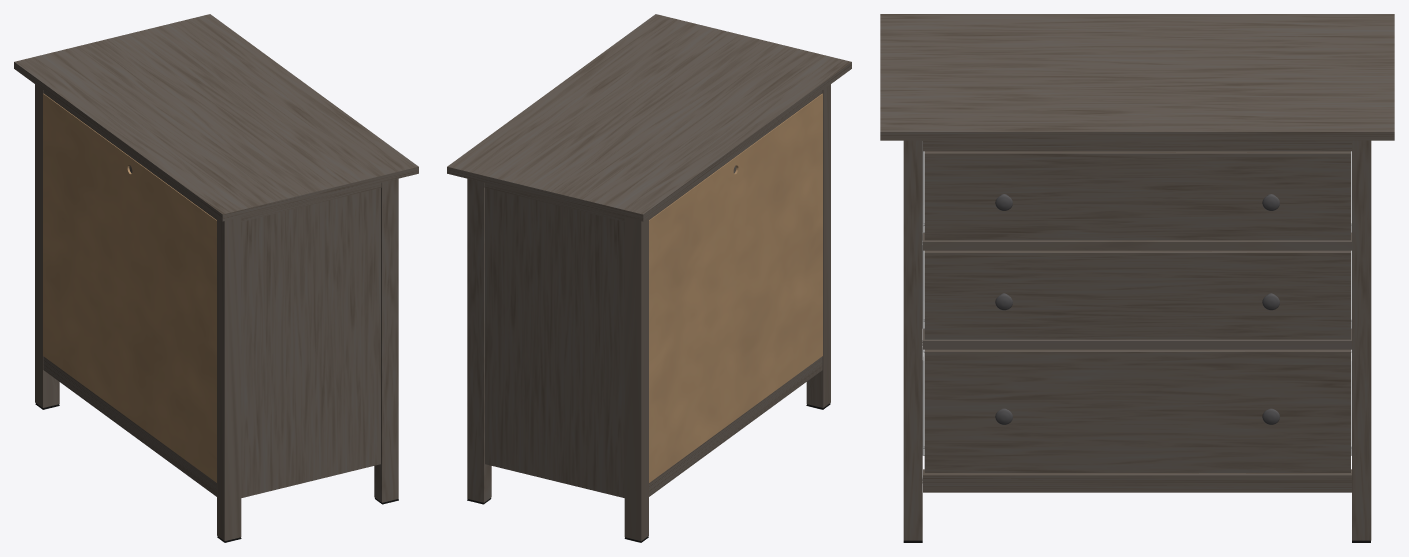
Rendered from ikea3.glb.
The picture shows the model from 3 angles, left to right: view 1: azimuth 30°, elevation 25°; view 2: azimuth 150°, elevation 25°; view 3: azimuth 270°, elevation 25°; orthographic projection. The views are drawn at different scales.
Parts seen in each view (by area): view 1: Cube.035_119, Cube.034_103, PannelGauche.002_111, pattesMeuble.006_112, pattesMeuble.007_113, pattesMeuble.010_128, Cube.029_101, Cube.039_104, poutrederrieretop.001_117; view 2: Cube.035_119, Cube.034_103, PannelGauche.003_127, pattesMeuble.010_128, pattesMeuble.011_129, pattesMeuble.006_112, Cube.029_101, Cube.041_120, poutrederrieretop.001_117; view 3: Cube.034_103, Cube.062_220, Cube.045_210, Cube.044_191, Cube.028_100, pattesMeuble.007_113, pattesMeuble.011_129, Cube.027_99, Cube.032_102, separationMilieu.002_118.
Part boxes in pixels (bbox=[...]): Cube.035_119: bbox=[43, 93, 216, 482]; Cube.034_103: bbox=[14, 14, 418, 221]; PannelGauche.002_111: bbox=[241, 188, 380, 497]; pattesMeuble.006_112: bbox=[217, 217, 241, 540]; pattesMeuble.007_113: bbox=[374, 178, 398, 502]; pattesMeuble.010_128: bbox=[35, 84, 59, 407]; Cube.029_101: bbox=[43, 356, 216, 496]; Cube.039_104: bbox=[241, 183, 381, 221]; poutrederrieretop.001_117: bbox=[43, 90, 216, 219]; Cube.035_119: bbox=[649, 93, 822, 482]; Cube.034_103: bbox=[447, 14, 851, 221]; PannelGauche.003_127: bbox=[485, 188, 624, 497]; pattesMeuble.010_128: bbox=[624, 217, 648, 541]; pattesMeuble.011_129: bbox=[467, 178, 491, 502]; pattesMeuble.006_112: bbox=[806, 84, 830, 407]; Cube.029_101: bbox=[649, 356, 822, 496]; Cube.041_120: bbox=[484, 183, 624, 221]; poutrederrieretop.001_117: bbox=[649, 90, 822, 219]; Cube.034_103: bbox=[880, 14, 1394, 140]; Cube.062_220: bbox=[924, 349, 1350, 472]; Cube.045_210: bbox=[924, 250, 1350, 339]; Cube.044_191: bbox=[924, 151, 1350, 240]; Cube.028_100: bbox=[923, 469, 1351, 492]; pattesMeuble.007_113: bbox=[903, 140, 922, 540]; pattesMeuble.011_129: bbox=[1352, 140, 1371, 540]; Cube.027_99: bbox=[923, 140, 1351, 151]; Cube.032_102: bbox=[923, 328, 1351, 349]; separationMilieu.002_118: bbox=[923, 232, 1351, 250].
Size of the model in its own units: 0.5861 by 0.966 by 1.08.
Materials: 6 (3 with a texture image).
